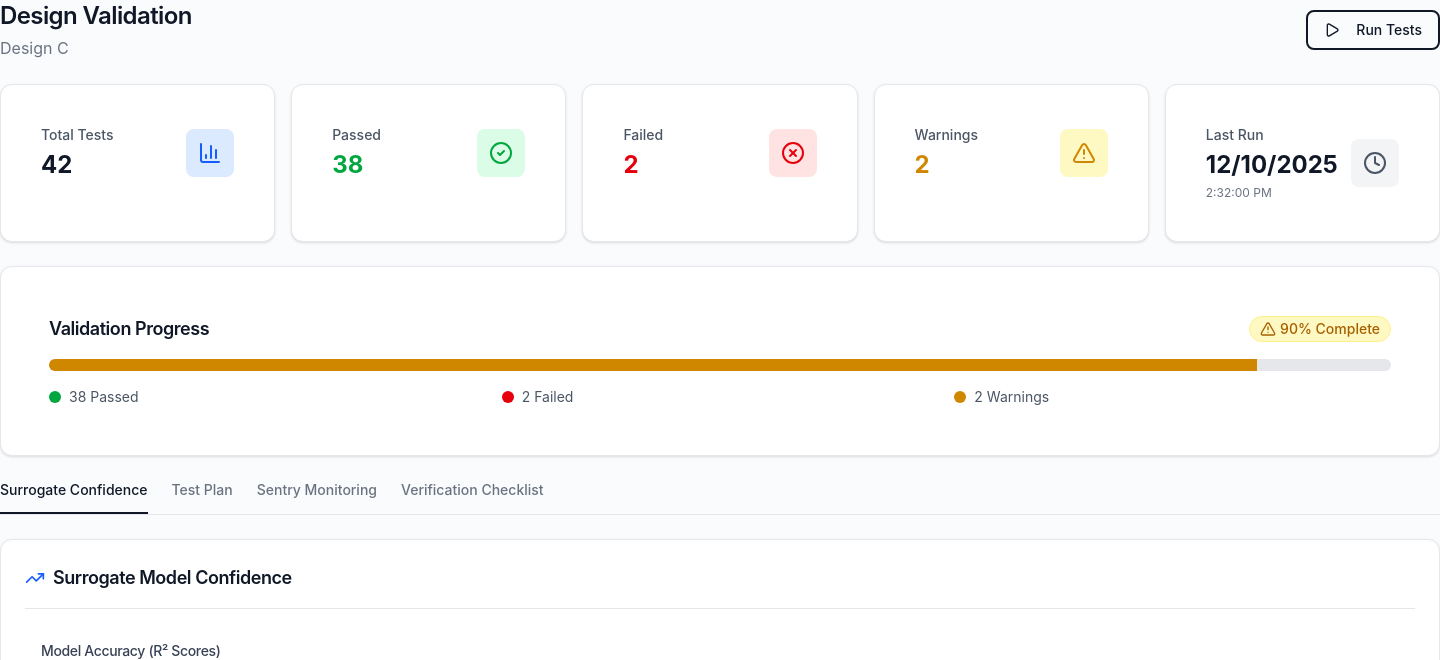
ValidationScreen › 84: handles multiple switches
Click the tab "Test Plan".
click(202, 497)  # box [172, 480, 233, 514]
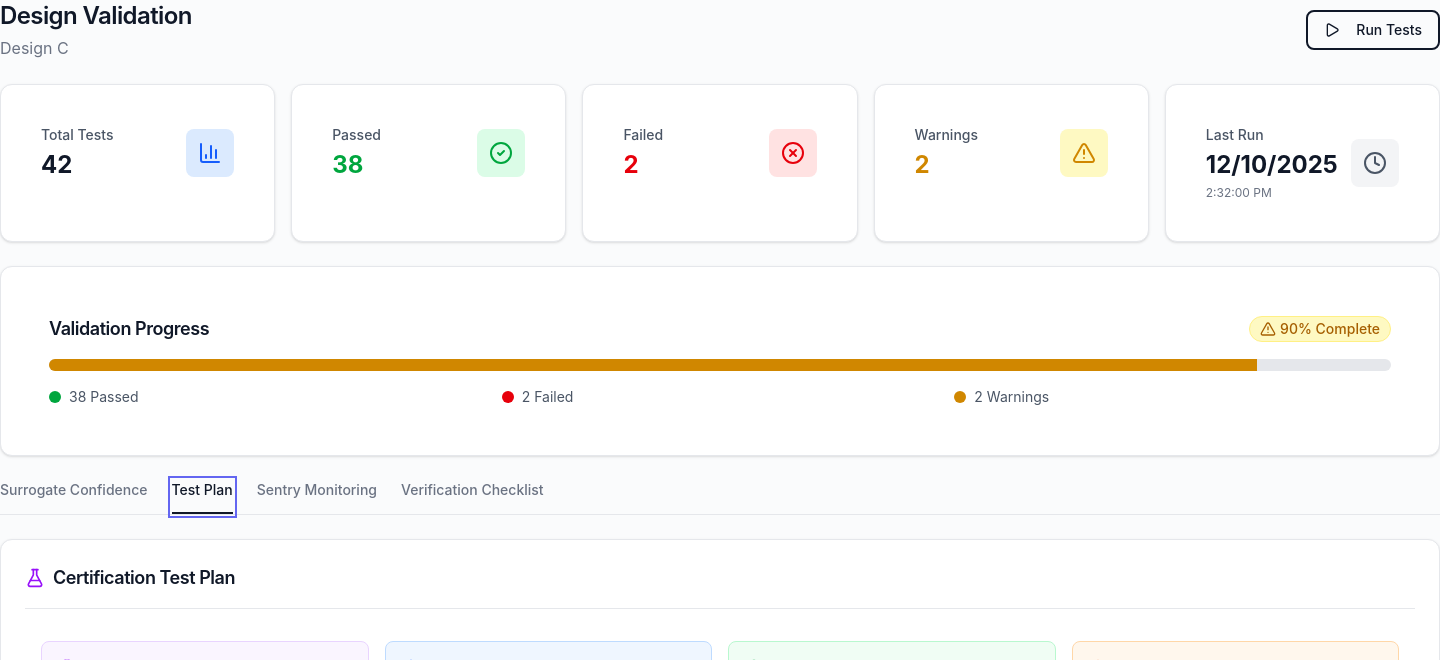
Expected: the heading "Certification Test Plan" is shown, [25, 567, 235, 588]
Click the tab "Surrogate Confidence".
click(74, 497)  # box [0, 480, 148, 514]
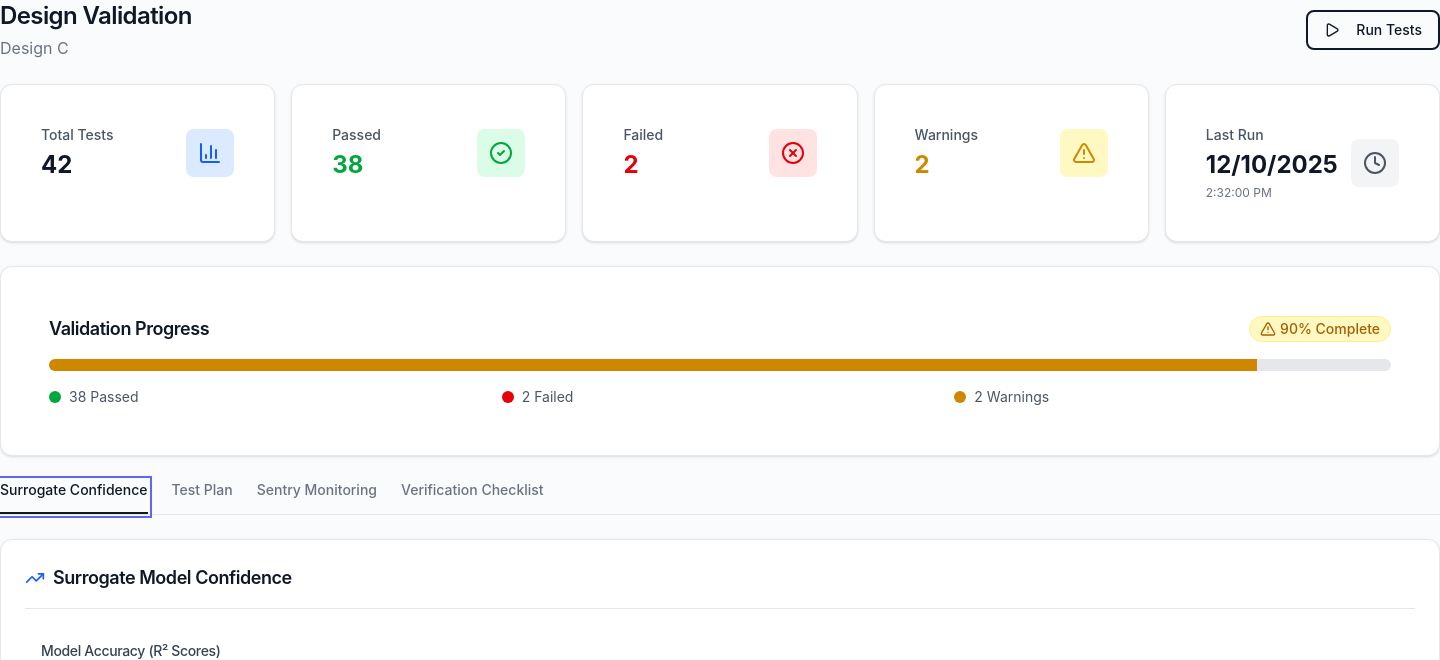
Expected: the heading "Surrogate Model Confidence" is shown, [25, 567, 292, 588]
